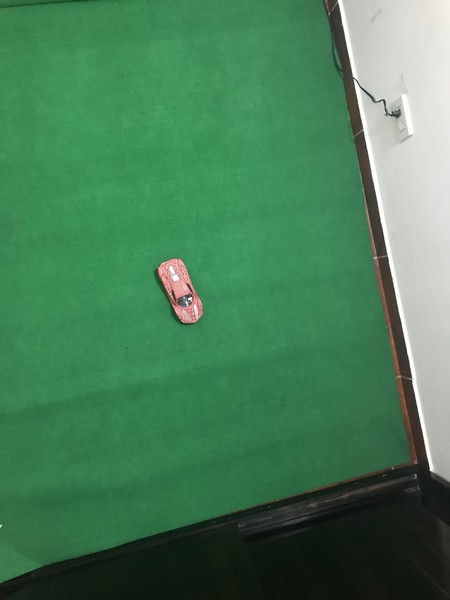RC: (154, 254, 206, 328)
